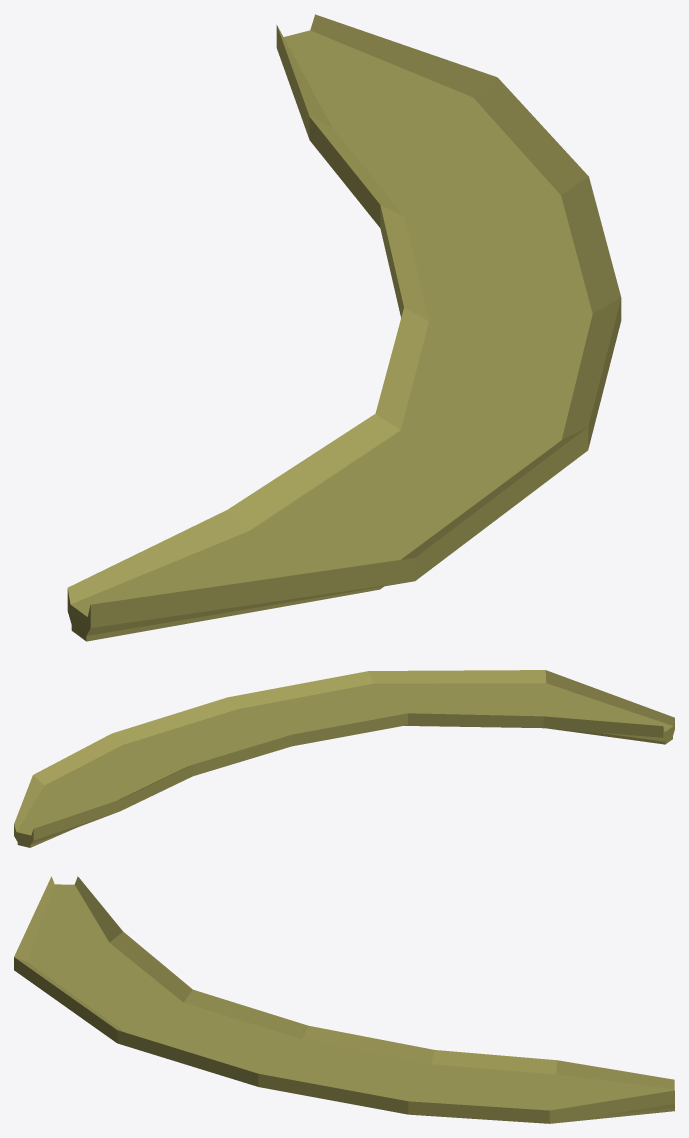
Rendered from ConnecterCornerNarrow.fbx.
3 renders of one model, top to bottom at view 1: azimuth 30°, elevation 25°; view 2: azimuth 150°, elevation 25°; view 3: azimuth 270°, elevation 25°, orthographic. The views are drawn at different scales.
Visible parts, largest first — view 1: Cube.014; view 2: Cube.014; view 3: Cube.014.
Boxes of the visible parts, x1,y1,x2,y2 form: Cube.014: (67,14,621,641); Cube.014: (14,670,674,847); Cube.014: (14,876,674,1123).
Size of the model in its own units: 2216 by 2640 by 100.
